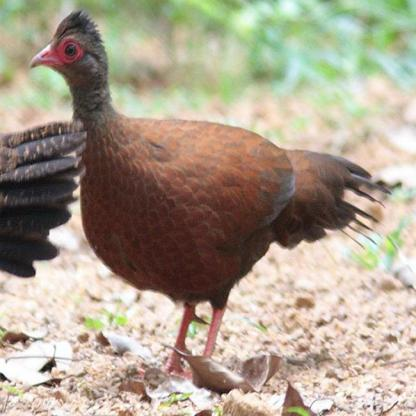Burung: (31, 11, 393, 373)
